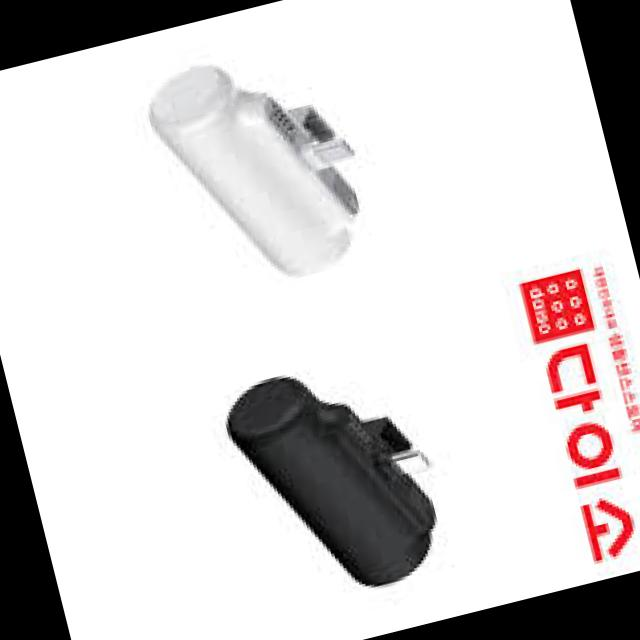power_bank: (208, 336, 465, 614), (136, 25, 388, 307)
